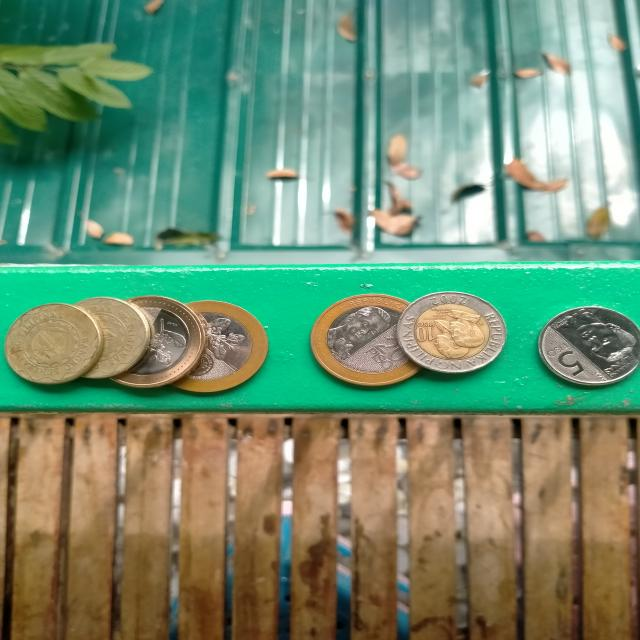10_Old_Front: (411, 320, 440, 346)
20_New_Back: (147, 314, 188, 368), (201, 311, 244, 360)
20_New_Front: (361, 332, 411, 372)
5_New_Front: (544, 339, 588, 380)
5_Old_Back: (5, 302, 99, 382), (76, 294, 154, 373)
